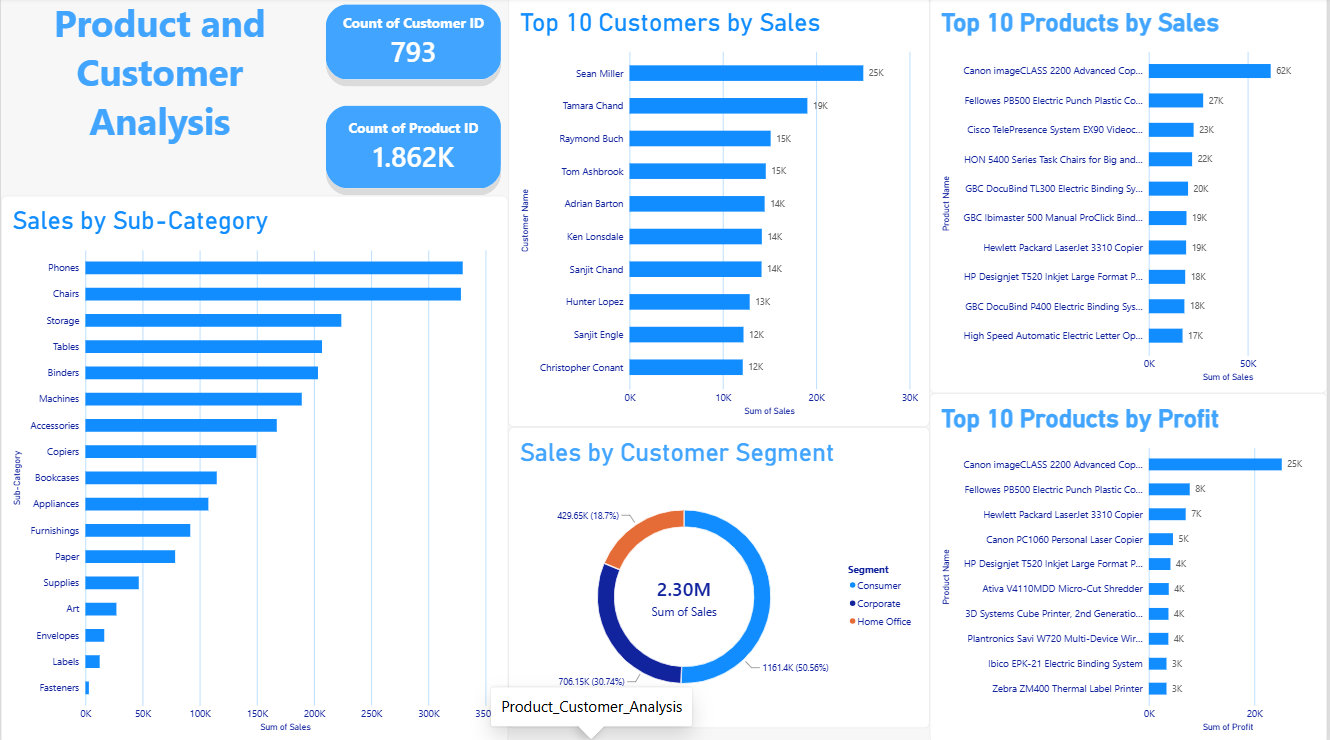

Layout of this report page (visuals, bound fields, positions):
{"tool":"powerbi","page":{"name":"Product_Customer_Analysis","canvas":[1920,1080],"ordinal":2},"visuals":[{"type":"cardVisual","fields":{"Data":["Count(Superstore.Customer ID)"]},"box":[459.7,0,275.1,130.3],"z":0},{"type":"cardVisual","fields":{"Data":["Count(Superstore.Product ID)"]},"box":[459.7,146.6,275.1,141.2],"z":1},{"type":"barChart","title":"Top 10 Products by Sales","fields":{"Category":["Superstore.Product Name"],"Y":["Sum(Superstore.Sales)"]},"box":[1344.6,0,575.5,573.7],"z":2},{"type":"barChart","title":"Top 10 Products by Profit","fields":{"Category":["Superstore.Product Name"],"Y":["Sum(Superstore.Profit)"]},"box":[1344.6,573.7,575.5,506.7],"z":3},{"type":"donutChart","title":"Sales by Customer Segment","fields":{"Category":["Superstore.Segment"],"Y":["Sum(Superstore.Sales)"]},"box":[734.7,622.5,609.9,436.1],"z":4},{"type":"barChart","title":"Top 10 Customers by Sales","fields":{"Category":["Superstore.Customer Name"],"Y":["Sum(Superstore.Sales)"]},"box":[734.7,0,609.9,622.5],"z":5},{"type":"barChart","title":"Sales by Sub-Category","fields":{"Category":["Superstore.Sub-Category"],"Y":["Sum(Superstore.Sales)"]},"box":[0,287.7,734.7,792.6],"z":6},{"type":"textbox","box":[0,0,459.7,217.2],"z":7}]}

Visuals, with their boxes in screenshot pixels (x1, y1, x2, y2), scaled from the page's 1920x1080 canvas onto the 1330x740 screenshot:
cardVisual - Count(Superstore.Customer ID): bbox=(318, 0, 509, 89)
cardVisual - Count(Superstore.Product ID): bbox=(318, 100, 509, 197)
"Top 10 Products by Sales" barChart: bbox=(931, 0, 1329, 393)
"Top 10 Products by Profit" barChart: bbox=(931, 393, 1329, 739)
"Sales by Customer Segment" donutChart: bbox=(509, 427, 931, 725)
"Top 10 Customers by Sales" barChart: bbox=(509, 0, 931, 427)
"Sales by Sub-Category" barChart: bbox=(0, 197, 509, 739)
textbox: bbox=(0, 0, 318, 149)
